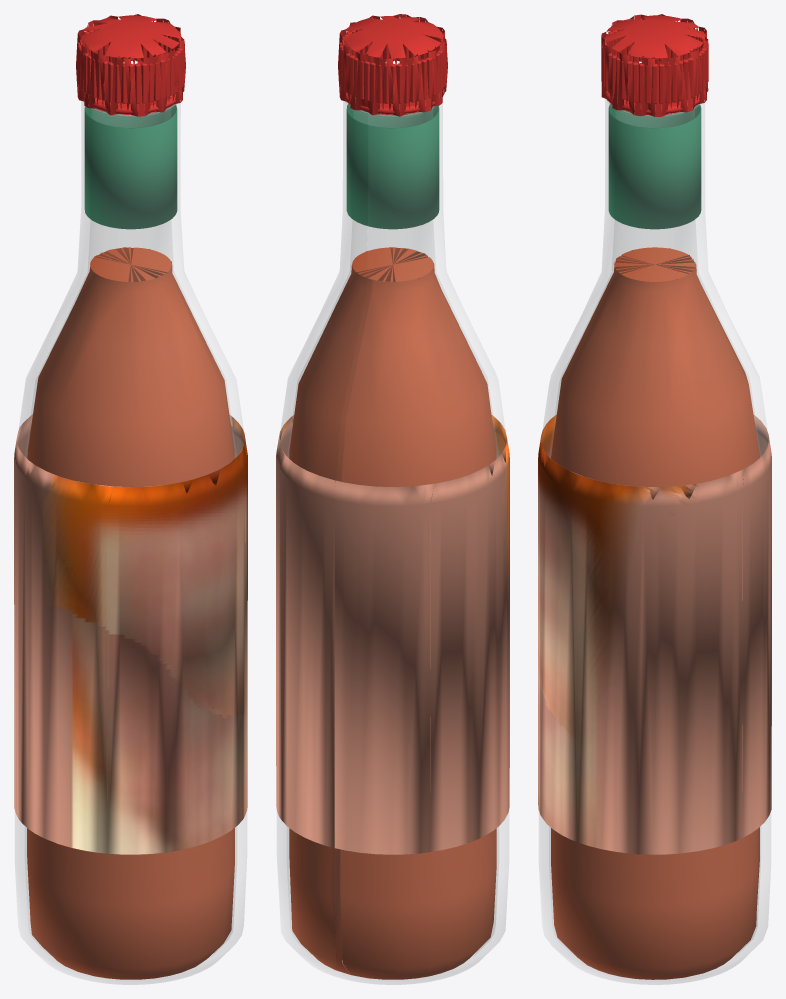
3 renders of one model, left to right at view 1: azimuth 30°, elevation 25°; view 2: azimuth 150°, elevation 25°; view 3: azimuth 270°, elevation 25°, orthographic.
Parts seen in each view (by area): view 1: profile-conforming printed label, thin shell with corrected shoulder, separate contents, neck band, removable closure; view 2: profile-conforming printed label, thin shell with corrected shoulder, separate contents, neck band, removable closure; view 3: profile-conforming printed label, thin shell with corrected shoulder, separate contents, neck band, removable closure.
Part boxes in pixels (x1=…): profile-conforming printed label: x1=14, y1=414, x2=247, y2=854; thin shell with corrected shoulder: x1=15, y1=96, x2=246, y2=984; separate contents: x1=27, y1=247, x2=234, y2=979; neck band: x1=84, y1=104, x2=177, y2=229; removable closure: x1=76, y1=14, x2=185, y2=116; profile-conforming printed label: x1=276, y1=414, x2=509, y2=854; thin shell with corrected shoulder: x1=277, y1=101, x2=508, y2=984; separate contents: x1=289, y1=247, x2=496, y2=979; neck band: x1=346, y1=104, x2=439, y2=229; removable closure: x1=338, y1=14, x2=447, y2=116; profile-conforming printed label: x1=538, y1=414, x2=771, y2=854; thin shell with corrected shoulder: x1=539, y1=99, x2=770, y2=984; separate contents: x1=551, y1=247, x2=759, y2=979; neck band: x1=608, y1=104, x2=701, y2=229; removable closure: x1=601, y1=14, x2=708, y2=116.
Bounding box in the file's own units: 0.0436 × 0.1879 × 0.0436.
5 materials, 1 textured.
